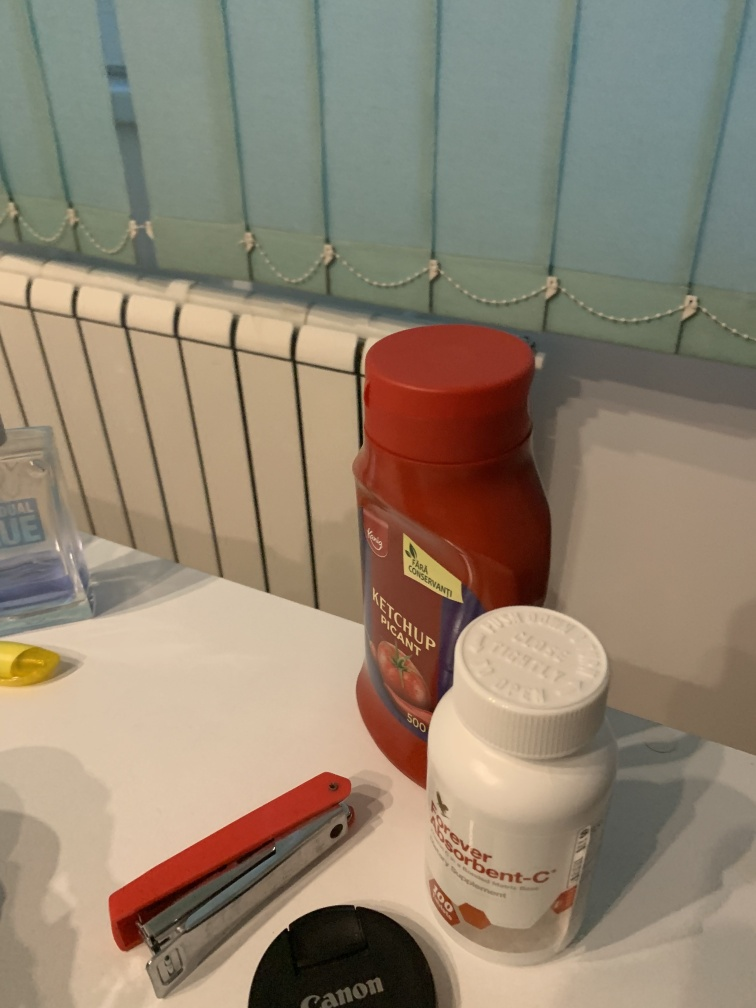ketchup: (344, 314, 557, 815)
